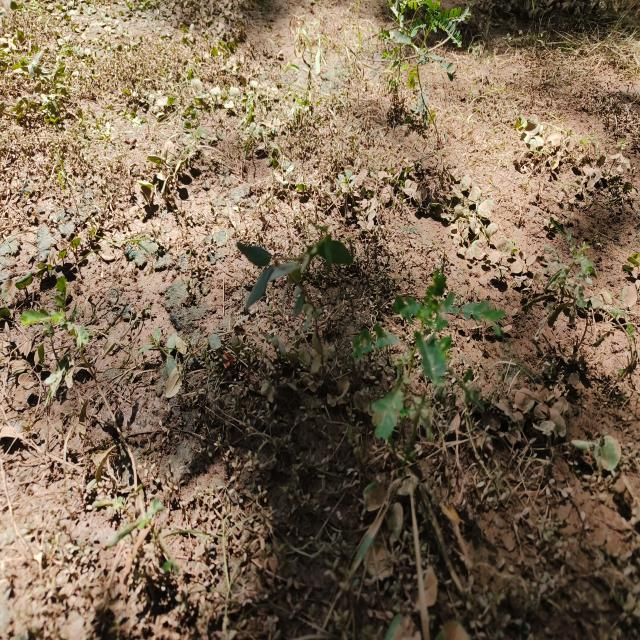weed: (301, 271, 506, 442), (224, 234, 352, 305)
